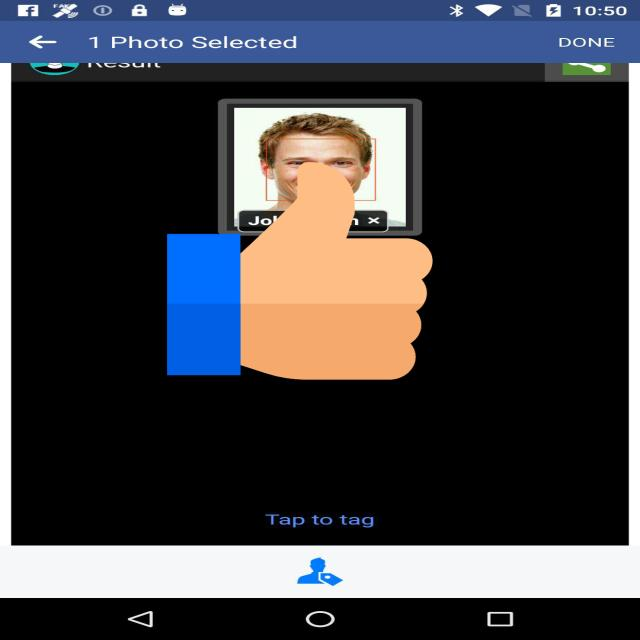privacy zuckering: (167, 157, 433, 385)
